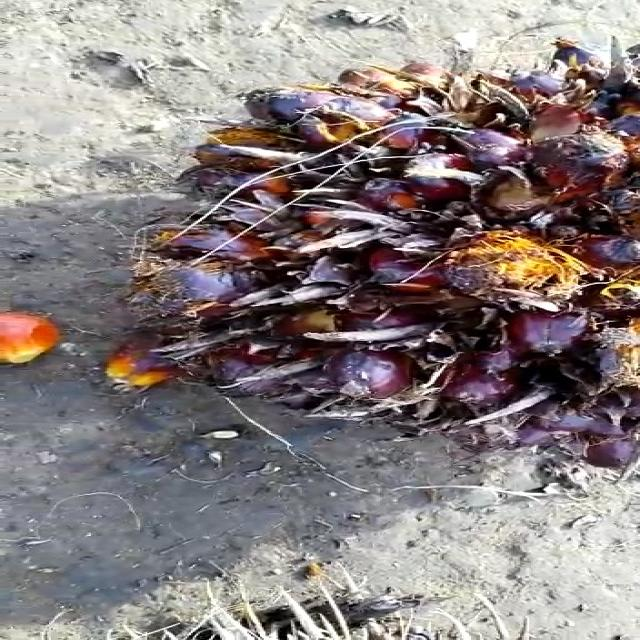palm oil: (136, 37, 640, 487)
